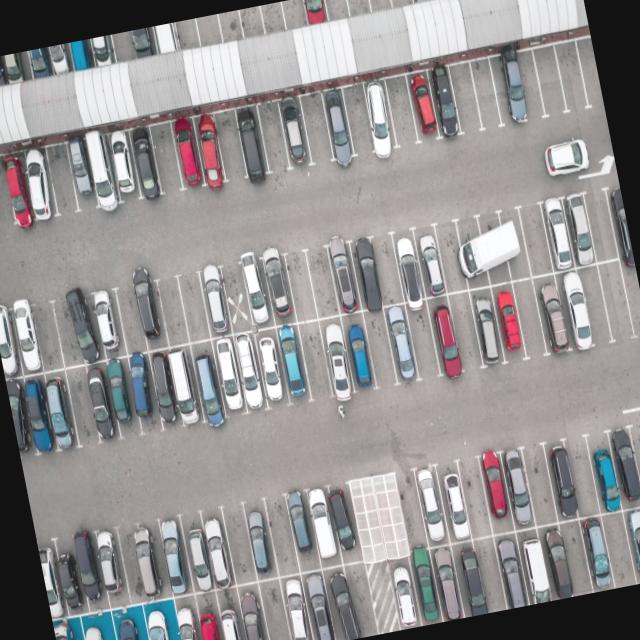car: (556, 266, 602, 352), (188, 339, 230, 424), (166, 344, 208, 428), (252, 326, 294, 409), (532, 274, 574, 356), (156, 514, 197, 598), (38, 368, 79, 451), (410, 464, 450, 548), (514, 524, 556, 604), (195, 512, 237, 592), (475, 451, 515, 534), (210, 335, 250, 418), (17, 373, 57, 456), (272, 322, 312, 404), (126, 351, 166, 433), (426, 296, 466, 378), (468, 283, 508, 365), (338, 309, 378, 391), (500, 449, 540, 531), (434, 460, 474, 542), (228, 332, 268, 414), (316, 312, 355, 396), (91, 527, 132, 606), (492, 50, 534, 127), (488, 280, 528, 360), (67, 529, 106, 610), (104, 353, 142, 436), (242, 500, 281, 580), (492, 530, 532, 608), (129, 522, 168, 602), (286, 490, 324, 572), (177, 512, 215, 594), (474, 210, 515, 286), (323, 485, 362, 564), (455, 213, 495, 290), (382, 304, 421, 382), (305, 487, 343, 567), (360, 80, 400, 156), (64, 290, 104, 366), (240, 253, 279, 330), (196, 265, 236, 340), (539, 198, 579, 273), (579, 512, 617, 590), (588, 435, 626, 513), (425, 542, 463, 620), (86, 360, 123, 440), (147, 349, 184, 429), (84, 133, 122, 210), (321, 563, 359, 640), (450, 539, 488, 616), (168, 117, 207, 192), (278, 572, 321, 640), (104, 128, 142, 204), (403, 70, 442, 144), (387, 556, 426, 630), (91, 288, 131, 360), (559, 193, 597, 268), (544, 444, 580, 523), (260, 252, 298, 326), (494, 208, 532, 282), (300, 568, 339, 640), (427, 67, 464, 142), (7, 303, 44, 378), (22, 148, 59, 223), (232, 105, 270, 178), (191, 114, 229, 187), (276, 97, 314, 170), (128, 127, 166, 200), (321, 89, 358, 163), (391, 230, 429, 302), (538, 525, 574, 601), (53, 536, 88, 614), (326, 244, 364, 314), (1, 151, 36, 227), (407, 552, 442, 626), (608, 431, 640, 511), (66, 139, 101, 212), (134, 280, 170, 350), (230, 580, 272, 640), (412, 228, 448, 298), (348, 241, 384, 311), (39, 544, 70, 622), (6, 377, 35, 456), (208, 587, 251, 640), (189, 589, 230, 640), (133, 599, 184, 640), (607, 186, 634, 260), (169, 592, 210, 640), (0, 303, 24, 378), (107, 605, 155, 640), (67, 609, 121, 640), (619, 504, 640, 583), (68, 38, 97, 74), (88, 34, 118, 68), (128, 26, 158, 59), (151, 22, 180, 56), (1, 51, 30, 85), (27, 47, 55, 81), (46, 43, 73, 77), (52, 616, 87, 640), (300, 0, 330, 27), (0, 56, 8, 89)
free: (362, 479, 404, 565), (292, 321, 334, 402), (445, 290, 486, 372), (264, 496, 304, 580), (402, 300, 443, 380), (597, 260, 637, 342), (338, 560, 380, 638), (520, 447, 560, 528), (456, 457, 494, 542), (512, 276, 552, 356), (392, 472, 430, 556), (360, 306, 399, 386), (468, 534, 508, 612), (566, 438, 604, 520), (64, 365, 102, 446), (220, 506, 258, 587), (599, 508, 638, 586), (516, 204, 556, 280), (298, 90, 338, 166), (577, 264, 614, 346), (381, 75, 421, 150), (445, 60, 484, 136), (216, 261, 254, 338), (148, 121, 187, 196), (212, 106, 250, 182), (584, 187, 622, 263), (558, 520, 596, 596), (253, 575, 297, 640), (255, 101, 294, 174), (280, 252, 318, 326), (555, 40, 593, 114), (340, 84, 378, 158), (366, 235, 404, 308), (468, 56, 505, 130), (302, 248, 340, 320), (432, 222, 470, 294), (156, 276, 193, 348), (532, 46, 569, 118), (117, 527, 151, 605), (30, 301, 66, 374), (46, 143, 82, 216), (175, 273, 212, 344), (514, 48, 548, 124), (52, 297, 88, 368), (114, 285, 150, 355), (352, 485, 384, 563), (576, 39, 604, 110), (619, 258, 640, 336), (0, 156, 19, 231), (194, 14, 223, 48), (259, 2, 288, 36), (174, 18, 202, 52), (110, 30, 138, 64), (238, 6, 266, 40), (280, 0, 310, 31), (217, 10, 244, 44), (629, 424, 640, 506), (321, 0, 351, 22), (344, 0, 373, 17), (367, 0, 395, 12), (387, 0, 416, 8)
